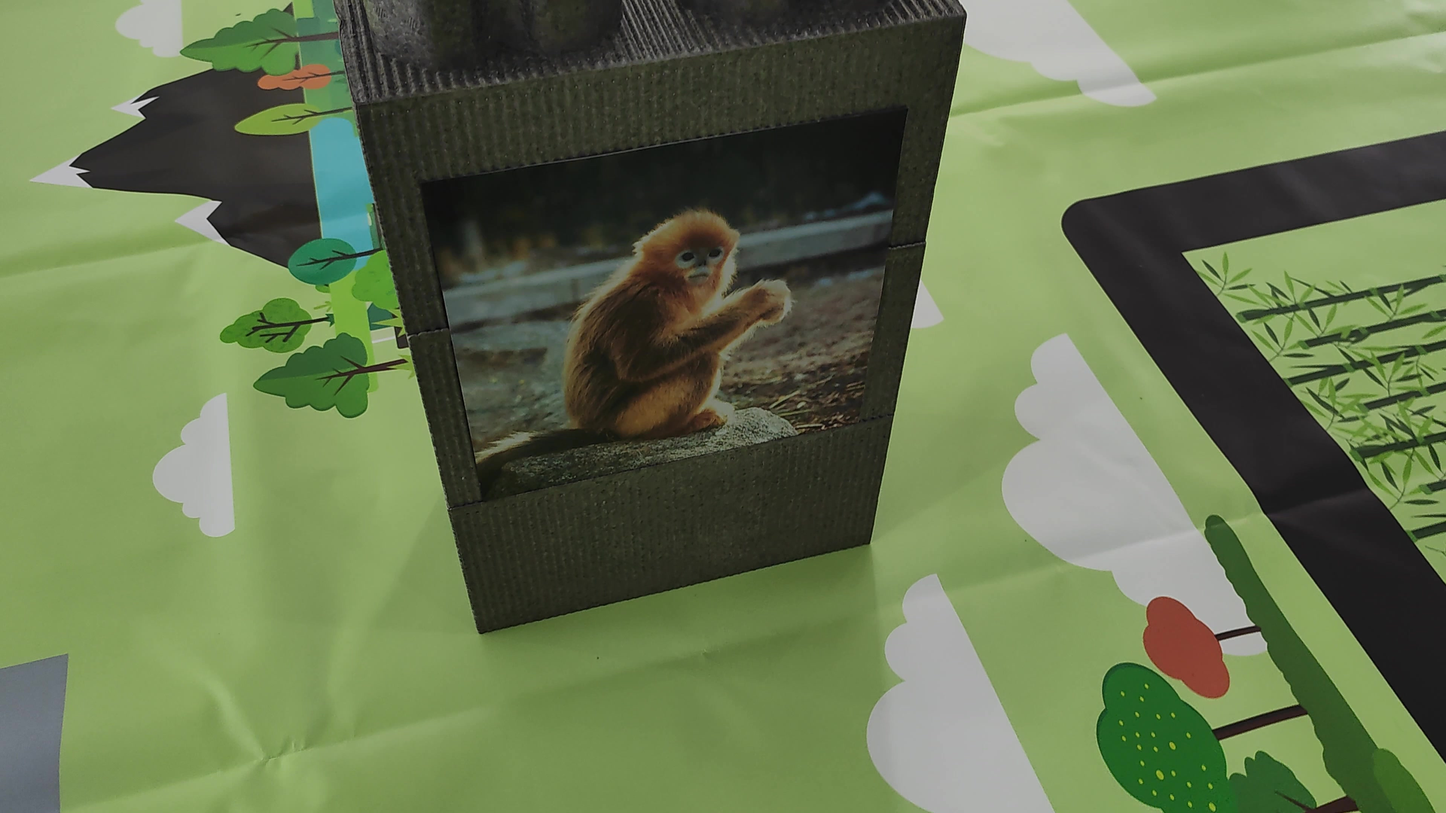monkey: (561, 212, 806, 470)
